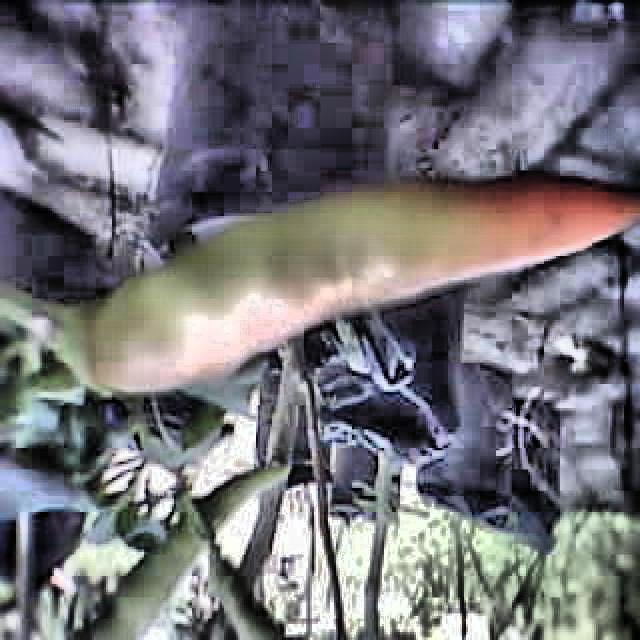Cabai: (69, 161, 640, 375)
